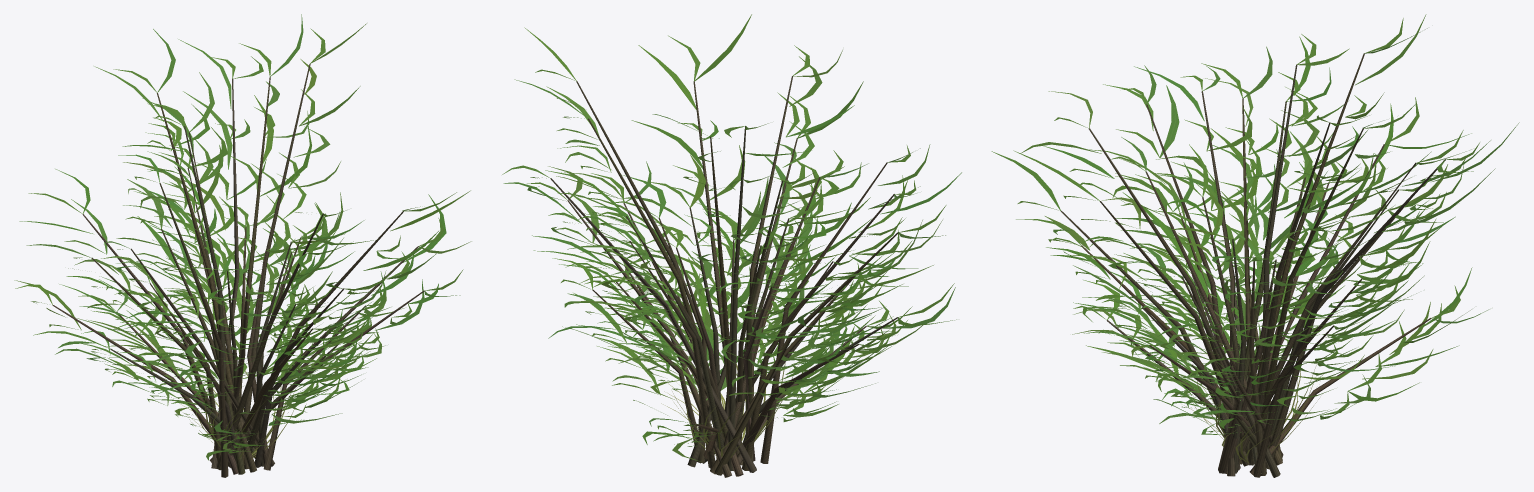
Rendered from PZ_WetlandShrub_B.glb.
3 views of the same model, side by side, from view 1: azimuth 30°, elevation 25°; view 2: azimuth 150°, elevation 25°; view 3: azimuth 270°, elevation 25° (orthographic). The views are drawn at different scales.
Parts seen in each view (by area): view 1: Shrub_IndividualSilhouetteLeaves_Batched, Shrub_WoodyBranchNetwork, Shrub_LowWetGrasses; view 2: Shrub_IndividualSilhouetteLeaves_Batched, Shrub_WoodyBranchNetwork, Shrub_LowWetGrasses; view 3: Shrub_IndividualSilhouetteLeaves_Batched, Shrub_WoodyBranchNetwork, Shrub_LowWetGrasses.
Part boxes in pixels (bbox=[...]): Shrub_IndividualSilhouetteLeaves_Batched: bbox=[14, 14, 471, 460]; Shrub_WoodyBranchNetwork: bbox=[52, 64, 424, 477]; Shrub_LowWetGrasses: bbox=[178, 365, 297, 459]; Shrub_IndividualSilhouetteLeaves_Batched: bbox=[502, 14, 961, 462]; Shrub_WoodyBranchNetwork: bbox=[550, 76, 898, 477]; Shrub_LowWetGrasses: bbox=[661, 329, 797, 457]; Shrub_IndividualSilhouetteLeaves_Batched: bbox=[991, 14, 1519, 434]; Shrub_WoodyBranchNetwork: bbox=[1061, 53, 1445, 477]; Shrub_LowWetGrasses: bbox=[1184, 341, 1319, 462].
Bounding box in the file's own units: 2.22 × 1.99 × 2.17.
Materials: 3 (3 with a texture image).
